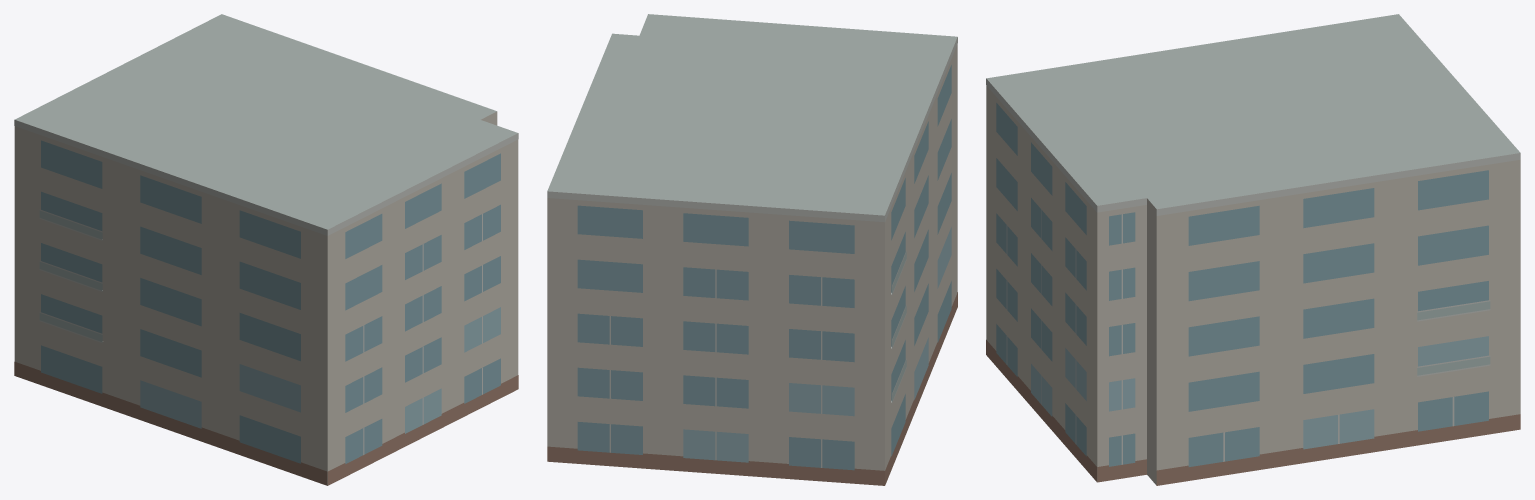
Rendered from survey-upis-32867922.glb.
3 renders of one model, left to right at view 1: azimuth 30°, elevation 25°; view 2: azimuth 150°, elevation 25°; view 3: azimuth 270°, elevation 25°, orthographic. The views are drawn at different scales.
Visible parts, largest first — view 1: survey-upis-32867922.tmp; view 2: survey-upis-32867922.tmp; view 3: survey-upis-32867922.tmp.
Boxes of the visible parts, x1,y1,x2,y2 form: survey-upis-32867922.tmp: (14, 14, 518, 485); survey-upis-32867922.tmp: (547, 14, 957, 485); survey-upis-32867922.tmp: (986, 14, 1520, 485).
Bounding box in the file's own units: 15.14 × 9.99 × 17.51.
